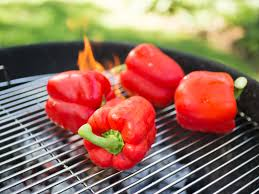bell pepper: (80, 93, 156, 172), (170, 66, 240, 139), (116, 40, 182, 112), (42, 67, 115, 128)
